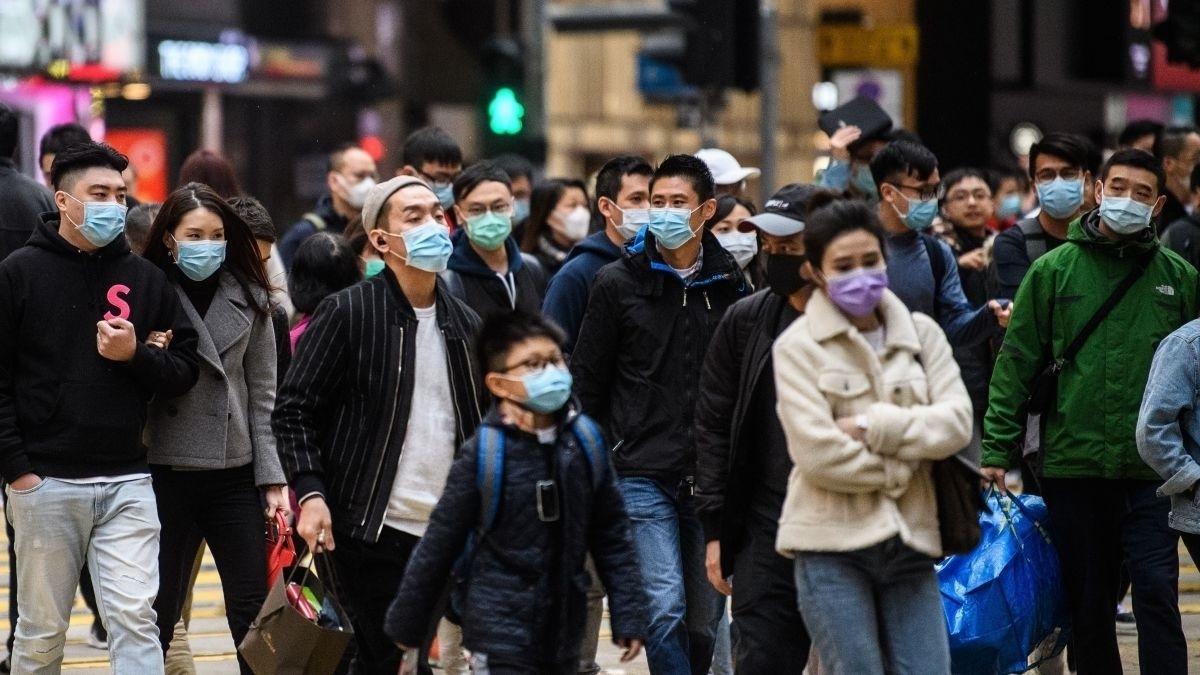mask: (488, 361, 573, 415), (59, 190, 128, 248), (377, 221, 453, 273), (818, 263, 889, 317), (167, 231, 228, 282), (647, 200, 709, 250), (453, 204, 513, 251), (1097, 192, 1161, 235), (886, 183, 939, 231), (1034, 173, 1085, 219), (764, 251, 810, 296), (604, 198, 649, 242), (714, 228, 758, 270), (333, 171, 377, 209), (547, 205, 591, 241)
